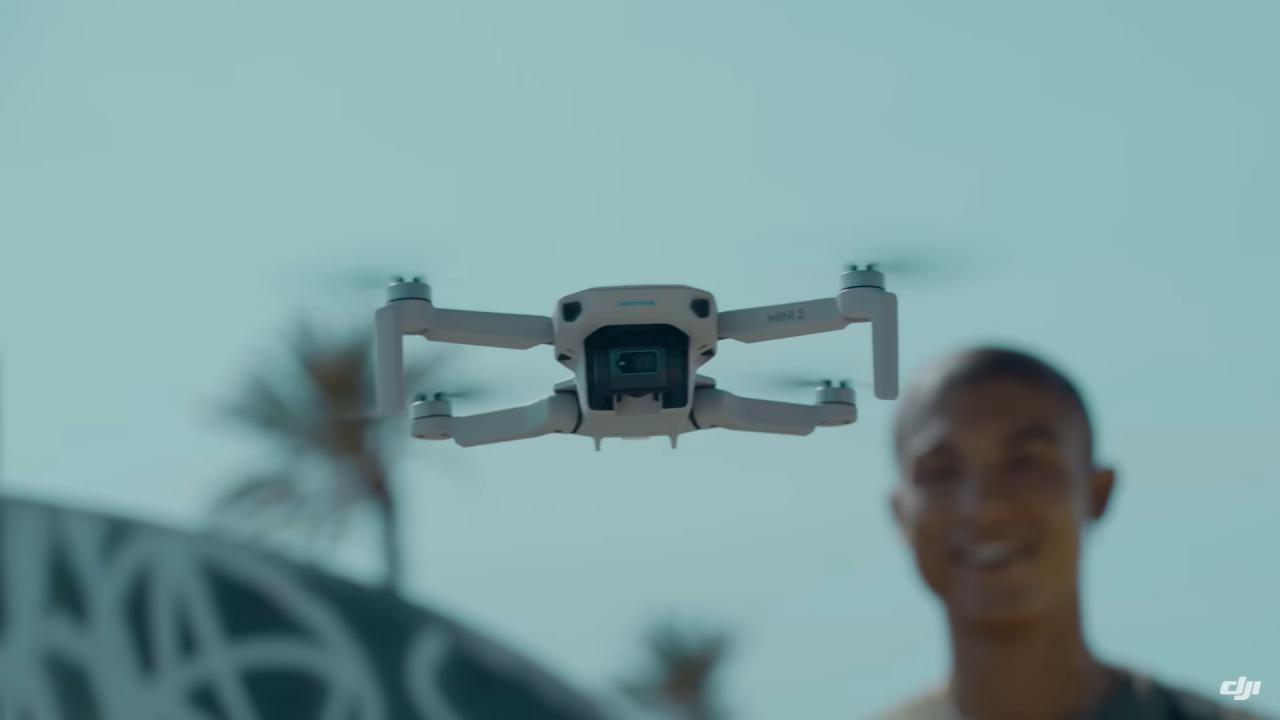Drone: (330, 239, 934, 470)
